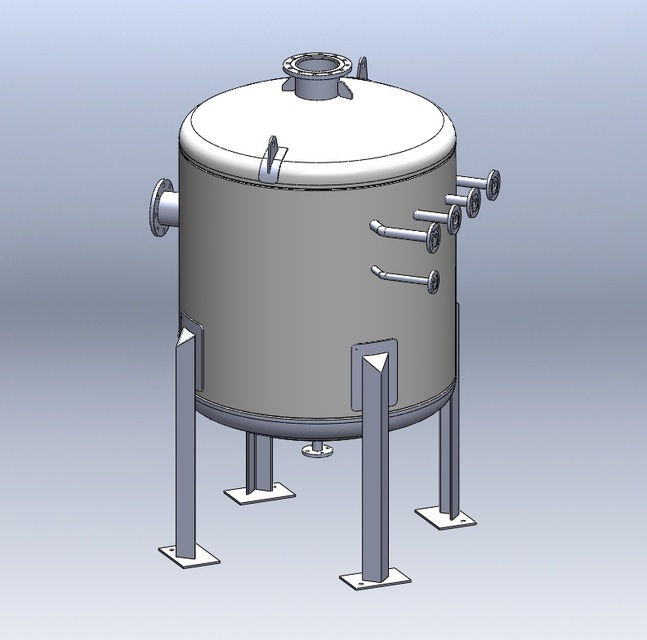nozzle: (269, 37, 360, 103), (134, 167, 189, 246), (288, 431, 342, 471)
